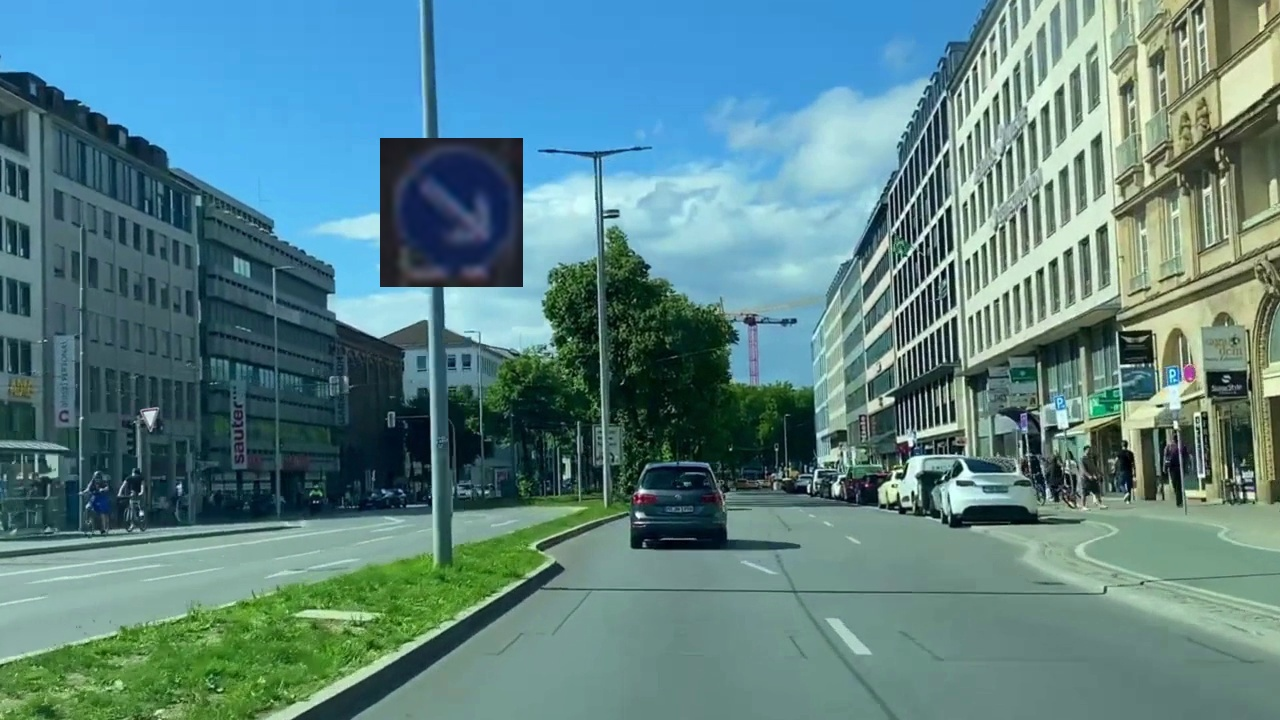Keep right: (380, 138, 523, 287)
